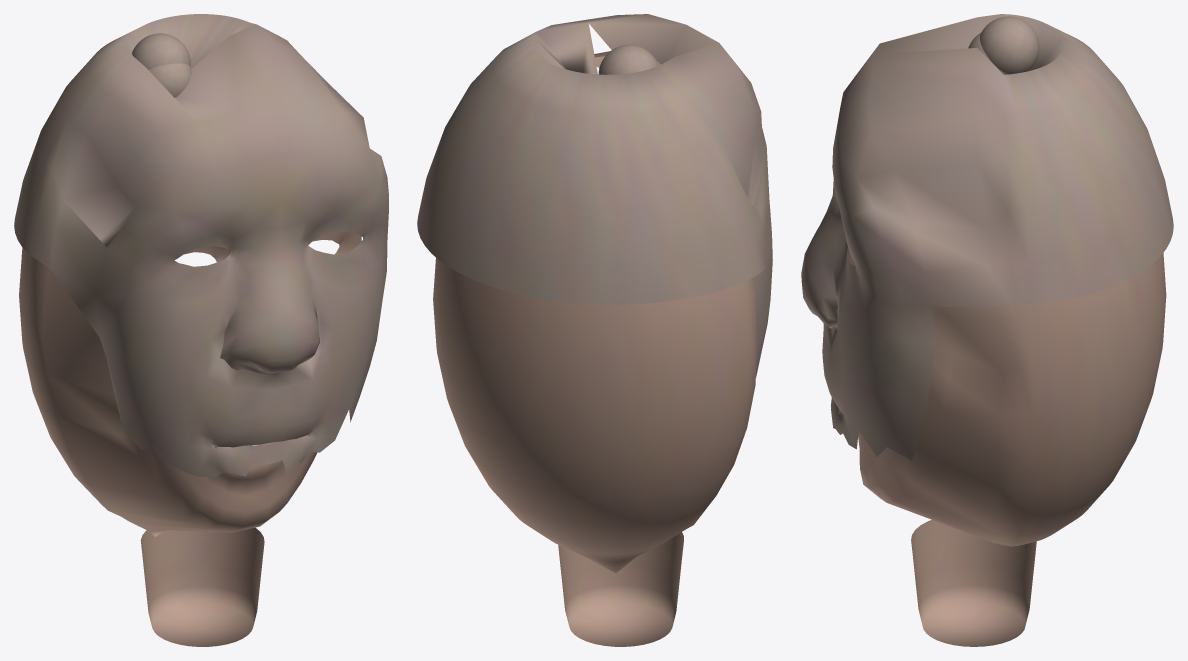
3 renders of one model, left to right at view 1: azimuth 30°, elevation 25°; view 2: azimuth 150°, elevation 25°; view 3: azimuth 270°, elevation 25°, orthographic. The views are drawn at different scales.
Parts seen in each view (by area): view 1: world; view 2: world; view 3: world.
Part boxes in pixels (left/top/right/bottom): world: left=14, top=14, right=388, bottom=646; world: left=417, top=14, right=772, bottom=646; world: left=801, top=14, right=1173, bottom=646.
Bounding box in the file's own units: 0.114 × 0.1992 × 0.1131.
